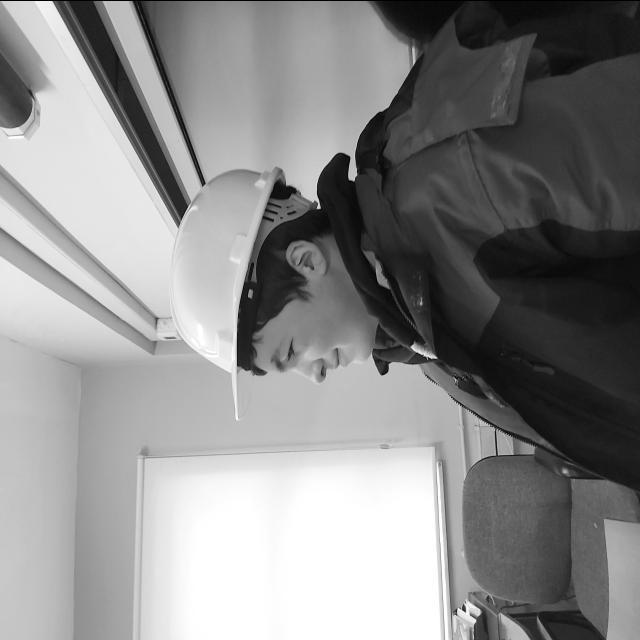safety_helmet: (171, 166, 315, 395)
